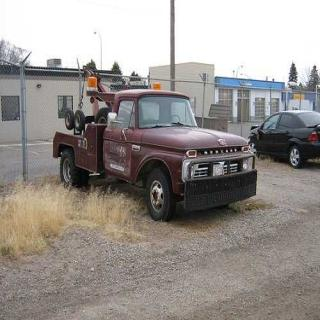Towing_truck: (51, 67, 258, 223), (247, 107, 319, 169)
